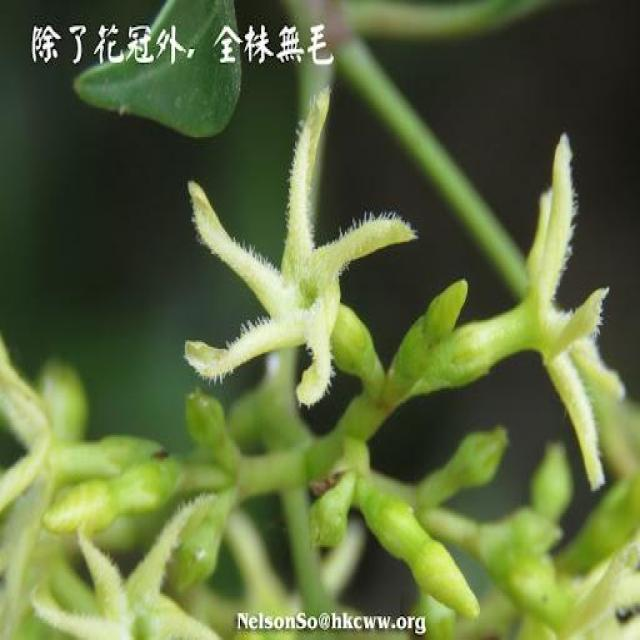organic waste: (166, 89, 418, 407), (520, 128, 618, 493)
